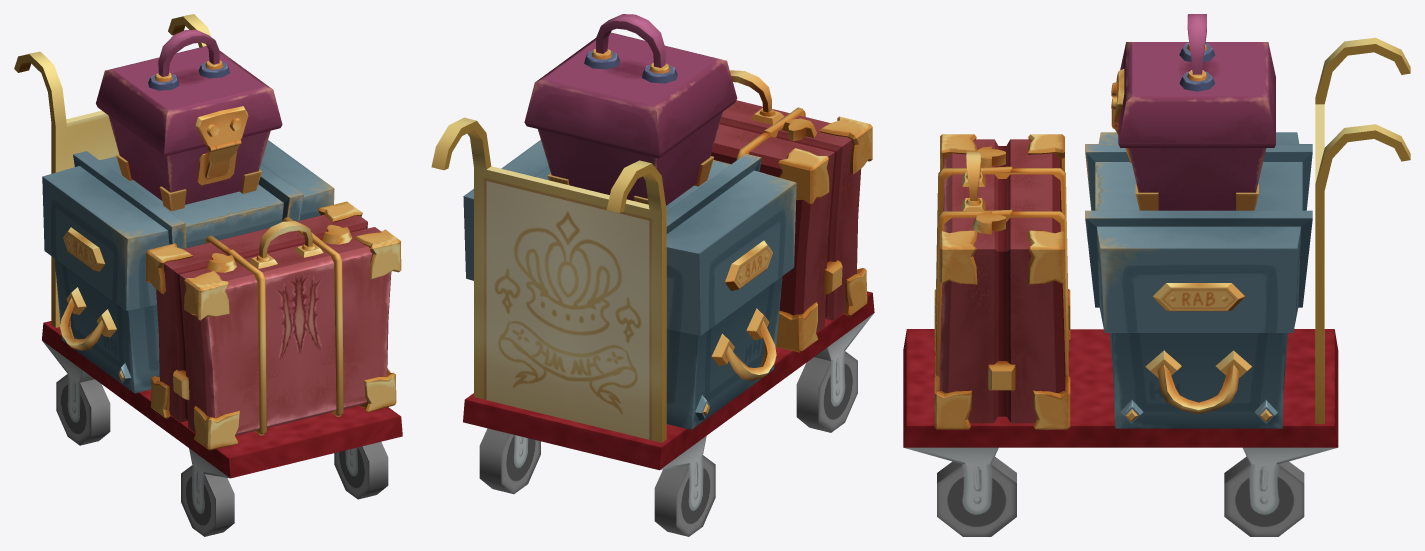
File: corridor_object_cart_2.FBX
3 renders of one model, left to right at view 1: azimuth 30°, elevation 25°; view 2: azimuth 150°, elevation 25°; view 3: azimuth 270°, elevation 25°, orthographic. The views are drawn at different scales.
Visible parts, largest first — view 1: aa001, Box124, Object001, Box126; view 2: Object001, Box124, Box126, aa001; view 3: Box124, Object001, aa001, Box126.
Boxes of the visible parts, x1,y1,x2,y2 form: aa001: [146, 201, 401, 450]; Box124: [42, 140, 334, 393]; Object001: [14, 14, 402, 536]; Box126: [96, 29, 282, 211]; Object001: [431, 117, 874, 536]; Box124: [463, 140, 796, 429]; Box126: [524, 14, 737, 205]; aa001: [710, 70, 872, 352]; Box124: [1085, 132, 1312, 428]; Object001: [903, 37, 1410, 536]; aa001: [934, 134, 1070, 429]; Box126: [1111, 14, 1275, 210].
Bounding box in the file's own units: 313 × 504 × 493.
Materials: 4 (4 with a texture image).
